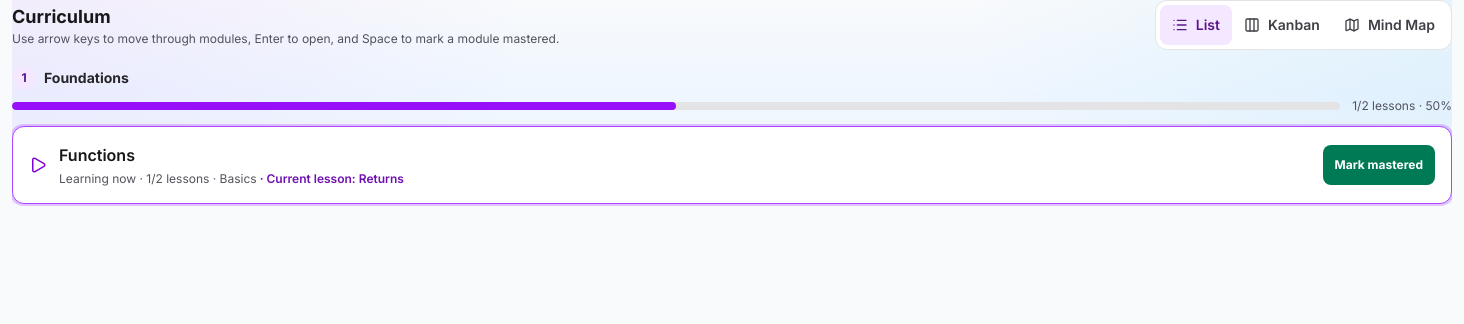
Test: RoadmapWorkspaceViews › keeps all three Kanban columns visible and explains empty columns
Click the button "Kanban".
click(1282, 25)  # box [1232,5,1332,45]
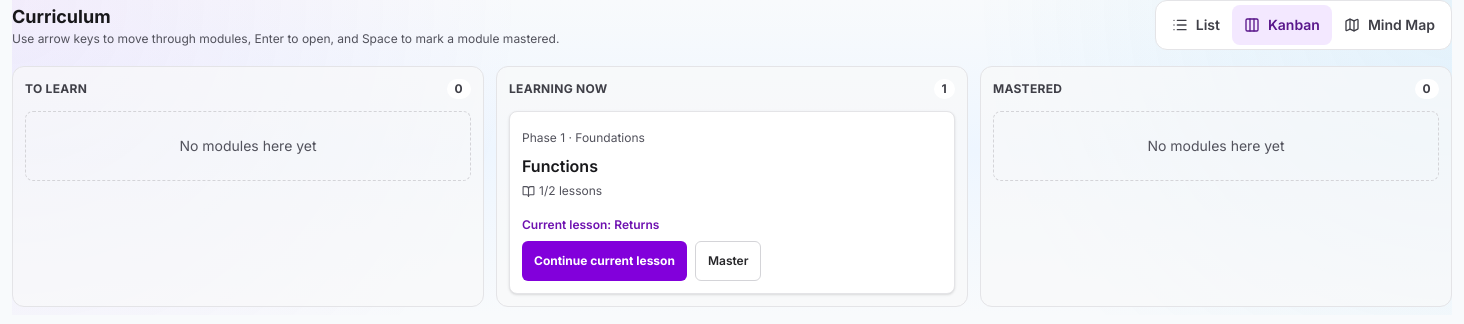
Check: the element named "To learn, 0 modules" is shown, box [12,66,484,307]
Check: the element named "Learning now, 1 modules" is shown, box [496,66,968,307]
Check: the element named "Mastered, 0 modules" is shown, box [980,66,1452,307]
